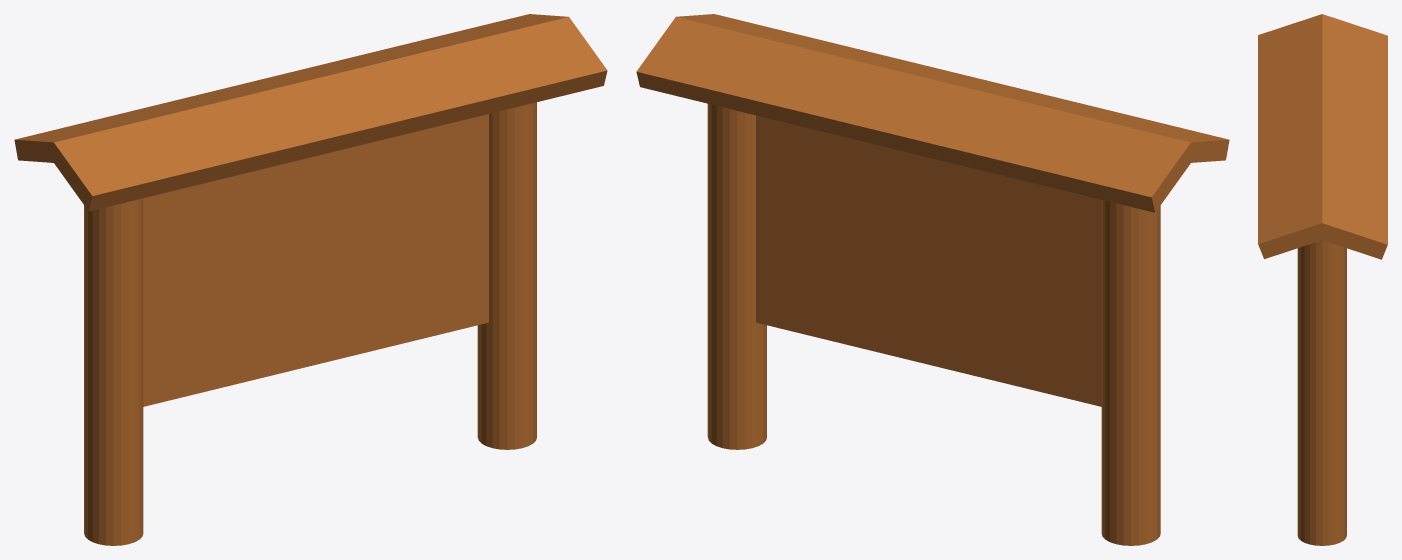
Rendered from sign.glb.
3 renders of one model, left to right at view 1: azimuth 30°, elevation 25°; view 2: azimuth 150°, elevation 25°; view 3: azimuth 270°, elevation 25°, orthographic. The views are drawn at different scales.
Parts seen in each view (by area): view 1: Sin título; view 2: Sin título; view 3: Sin título.
Boxes of the visible parts, x1,y1,x2,y2 form: Sin título: (14, 14, 607, 545); Sin título: (636, 14, 1229, 545); Sin título: (1258, 14, 1387, 545).
Bounding box in the file's own units: 7.24 × 5.45 × 1.9.
